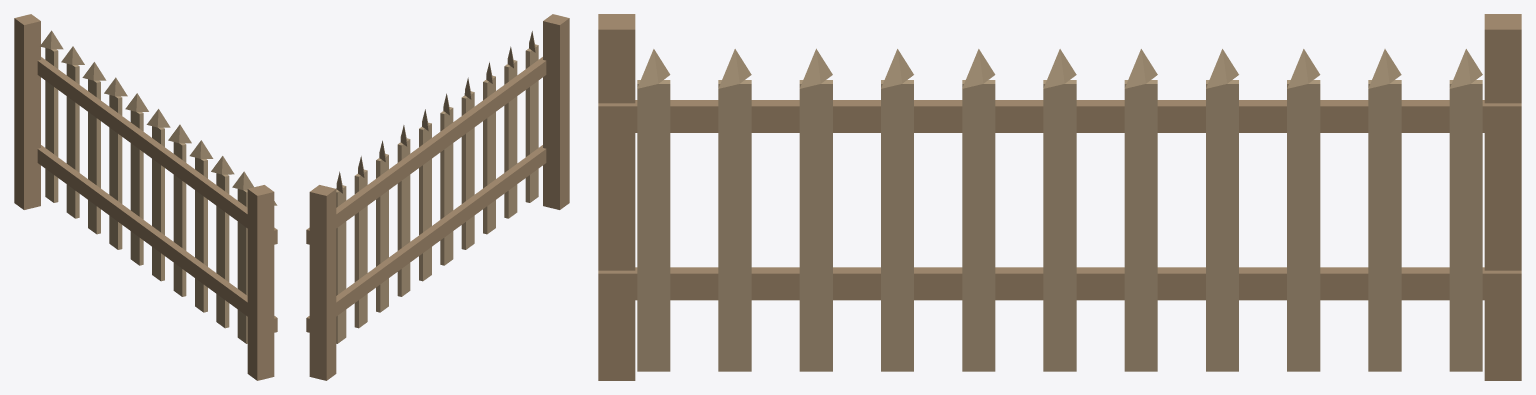
File: fence-garden.glb
3 renders of one model, left to right at view 1: azimuth 30°, elevation 25°; view 2: azimuth 150°, elevation 25°; view 3: azimuth 270°, elevation 25°, orthographic. The views are drawn at different scales.
Parts seen in each view (by area): view 1: fence-garden; view 2: fence-garden; view 3: fence-garden.
Boxes of the visible parts, x1,y1,x2,y2 form: fence-garden: (14,14,277,380); fence-garden: (306,14,569,380); fence-garden: (598,14,1521,380).
Size of the model in its own units: 0.1804 by 1.05 by 2.5.
